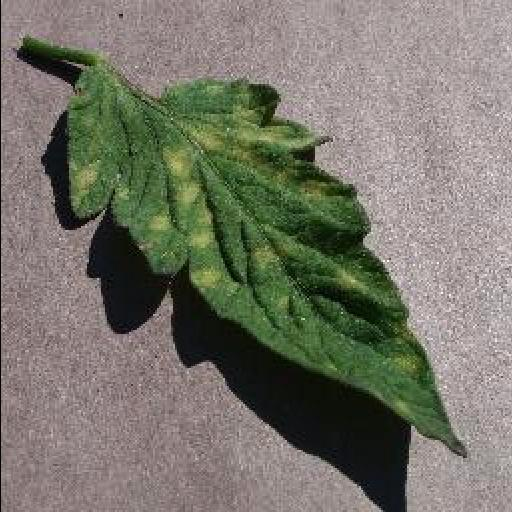disease_tomato: (62, 74, 468, 455)
